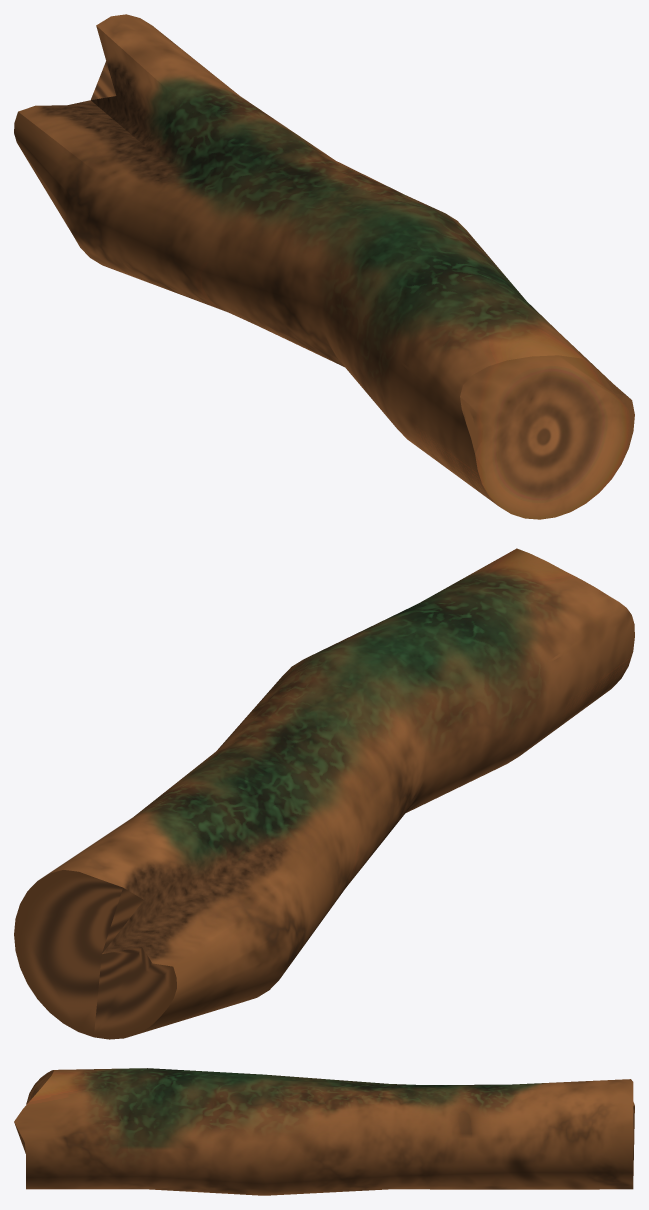
The model's file is wood.fbx.
3 renders of one model, top to bottom at view 1: azimuth 30°, elevation 25°; view 2: azimuth 150°, elevation 25°; view 3: azimuth 270°, elevation 25°, orthographic. The views are drawn at different scales.
Parts seen in each view (by area): view 1: Cylinder; view 2: Cylinder; view 3: Cylinder.
Part boxes in pixels (left/top/right/bottom): Cylinder: left=14, top=14, right=634, bottom=519; Cylinder: left=14, top=548, right=634, bottom=1039; Cylinder: left=14, top=1068, right=634, bottom=1195.
Size of the model in its own units: 271 by 224 by 1023.
